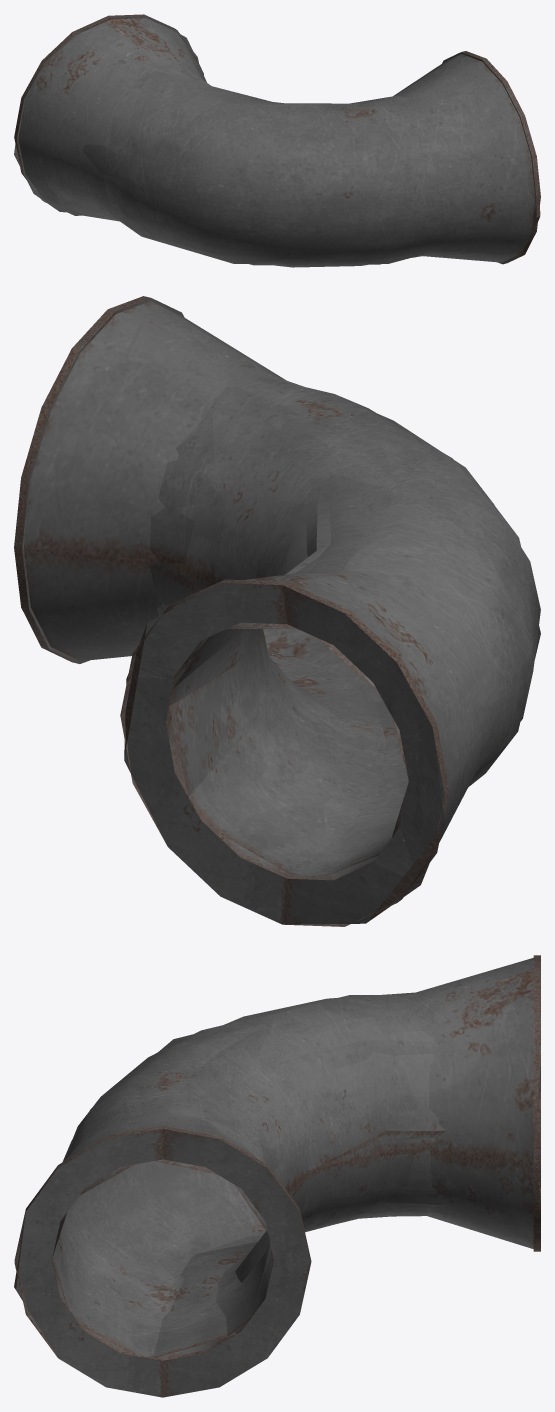
File: s_steel_factory_pipe_turn.dae
The picture shows the model from 3 angles, top to bottom: view 1: azimuth 30°, elevation 25°; view 2: azimuth 150°, elevation 25°; view 3: azimuth 270°, elevation 25°; orthographic projection. The views are drawn at different scales.
Parts seen in each view (by area): view 1: Colmesh_s_steel_factory_pipe_turn-1, s_steel_factory_pipe_turn_a50, s_steel_factory_pipe_turn_a100, s_steel_factory_pipe_turn_a200; view 2: Colmesh_s_steel_factory_pipe_turn-1, s_steel_factory_pipe_turn_a100, s_steel_factory_pipe_turn_a50, s_steel_factory_pipe_turn_a200; view 3: Colmesh_s_steel_factory_pipe_turn-1, s_steel_factory_pipe_turn_a100, s_steel_factory_pipe_turn_a50, s_steel_factory_pipe_turn_a200.
Boxes of the visible parts, box(x1,y1,x2,y2) form: Colmesh_s_steel_factory_pipe_turn-1: box(18, 18, 535, 267); s_steel_factory_pipe_turn_a50: box(82, 68, 450, 264); s_steel_factory_pipe_turn_a100: box(14, 34, 540, 265); s_steel_factory_pipe_turn_a200: box(14, 14, 540, 264); Colmesh_s_steel_factory_pipe_turn-1: box(23, 301, 540, 926); s_steel_factory_pipe_turn_a100: box(124, 394, 518, 924); s_steel_factory_pipe_turn_a50: box(149, 376, 540, 878); s_steel_factory_pipe_turn_a200: box(14, 296, 449, 926); Colmesh_s_steel_factory_pipe_turn-1: box(15, 958, 533, 1397); s_steel_factory_pipe_turn_a100: box(14, 996, 540, 1397); s_steel_factory_pipe_turn_a50: box(52, 995, 446, 1358); s_steel_factory_pipe_turn_a200: box(14, 955, 540, 1360).
Size of the model in its own units: 1.42 by 1.42 by 0.8.
